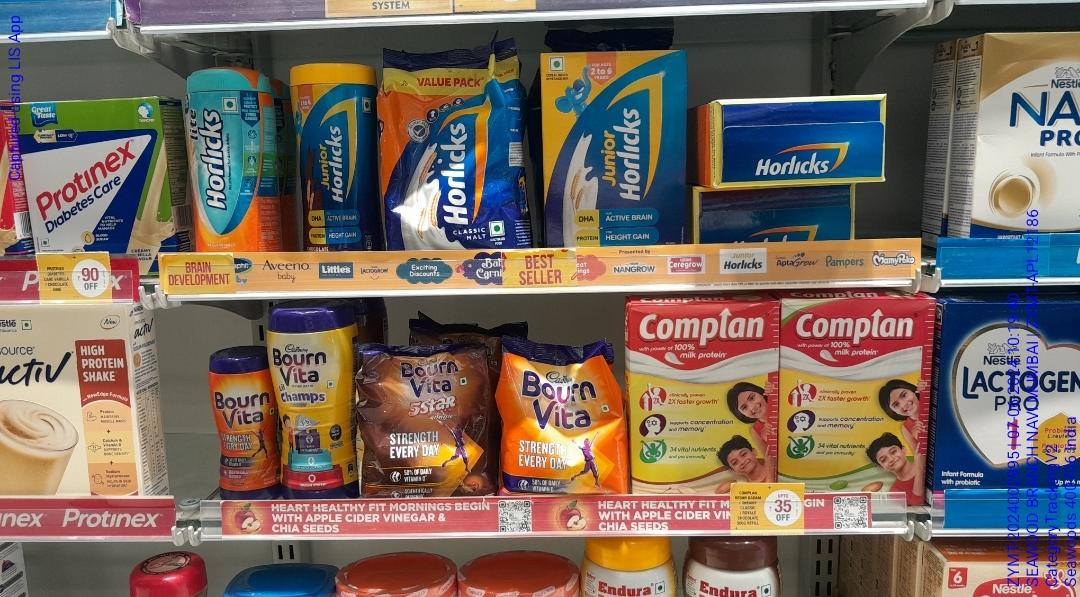BOURN_VITA_CHAMPS_500_G_JAR: (276, 304, 349, 495)
BOURN_VITA_FIVE_STAR_MAGIC_500_G_POUCH: (362, 345, 502, 487)
HORLICKS_LITE_REGULAR_MALT_500_GM_JAR: (186, 73, 272, 251)
HORLICK_CLASSIC_MALT_750_G_POUCH: (383, 55, 522, 240)
